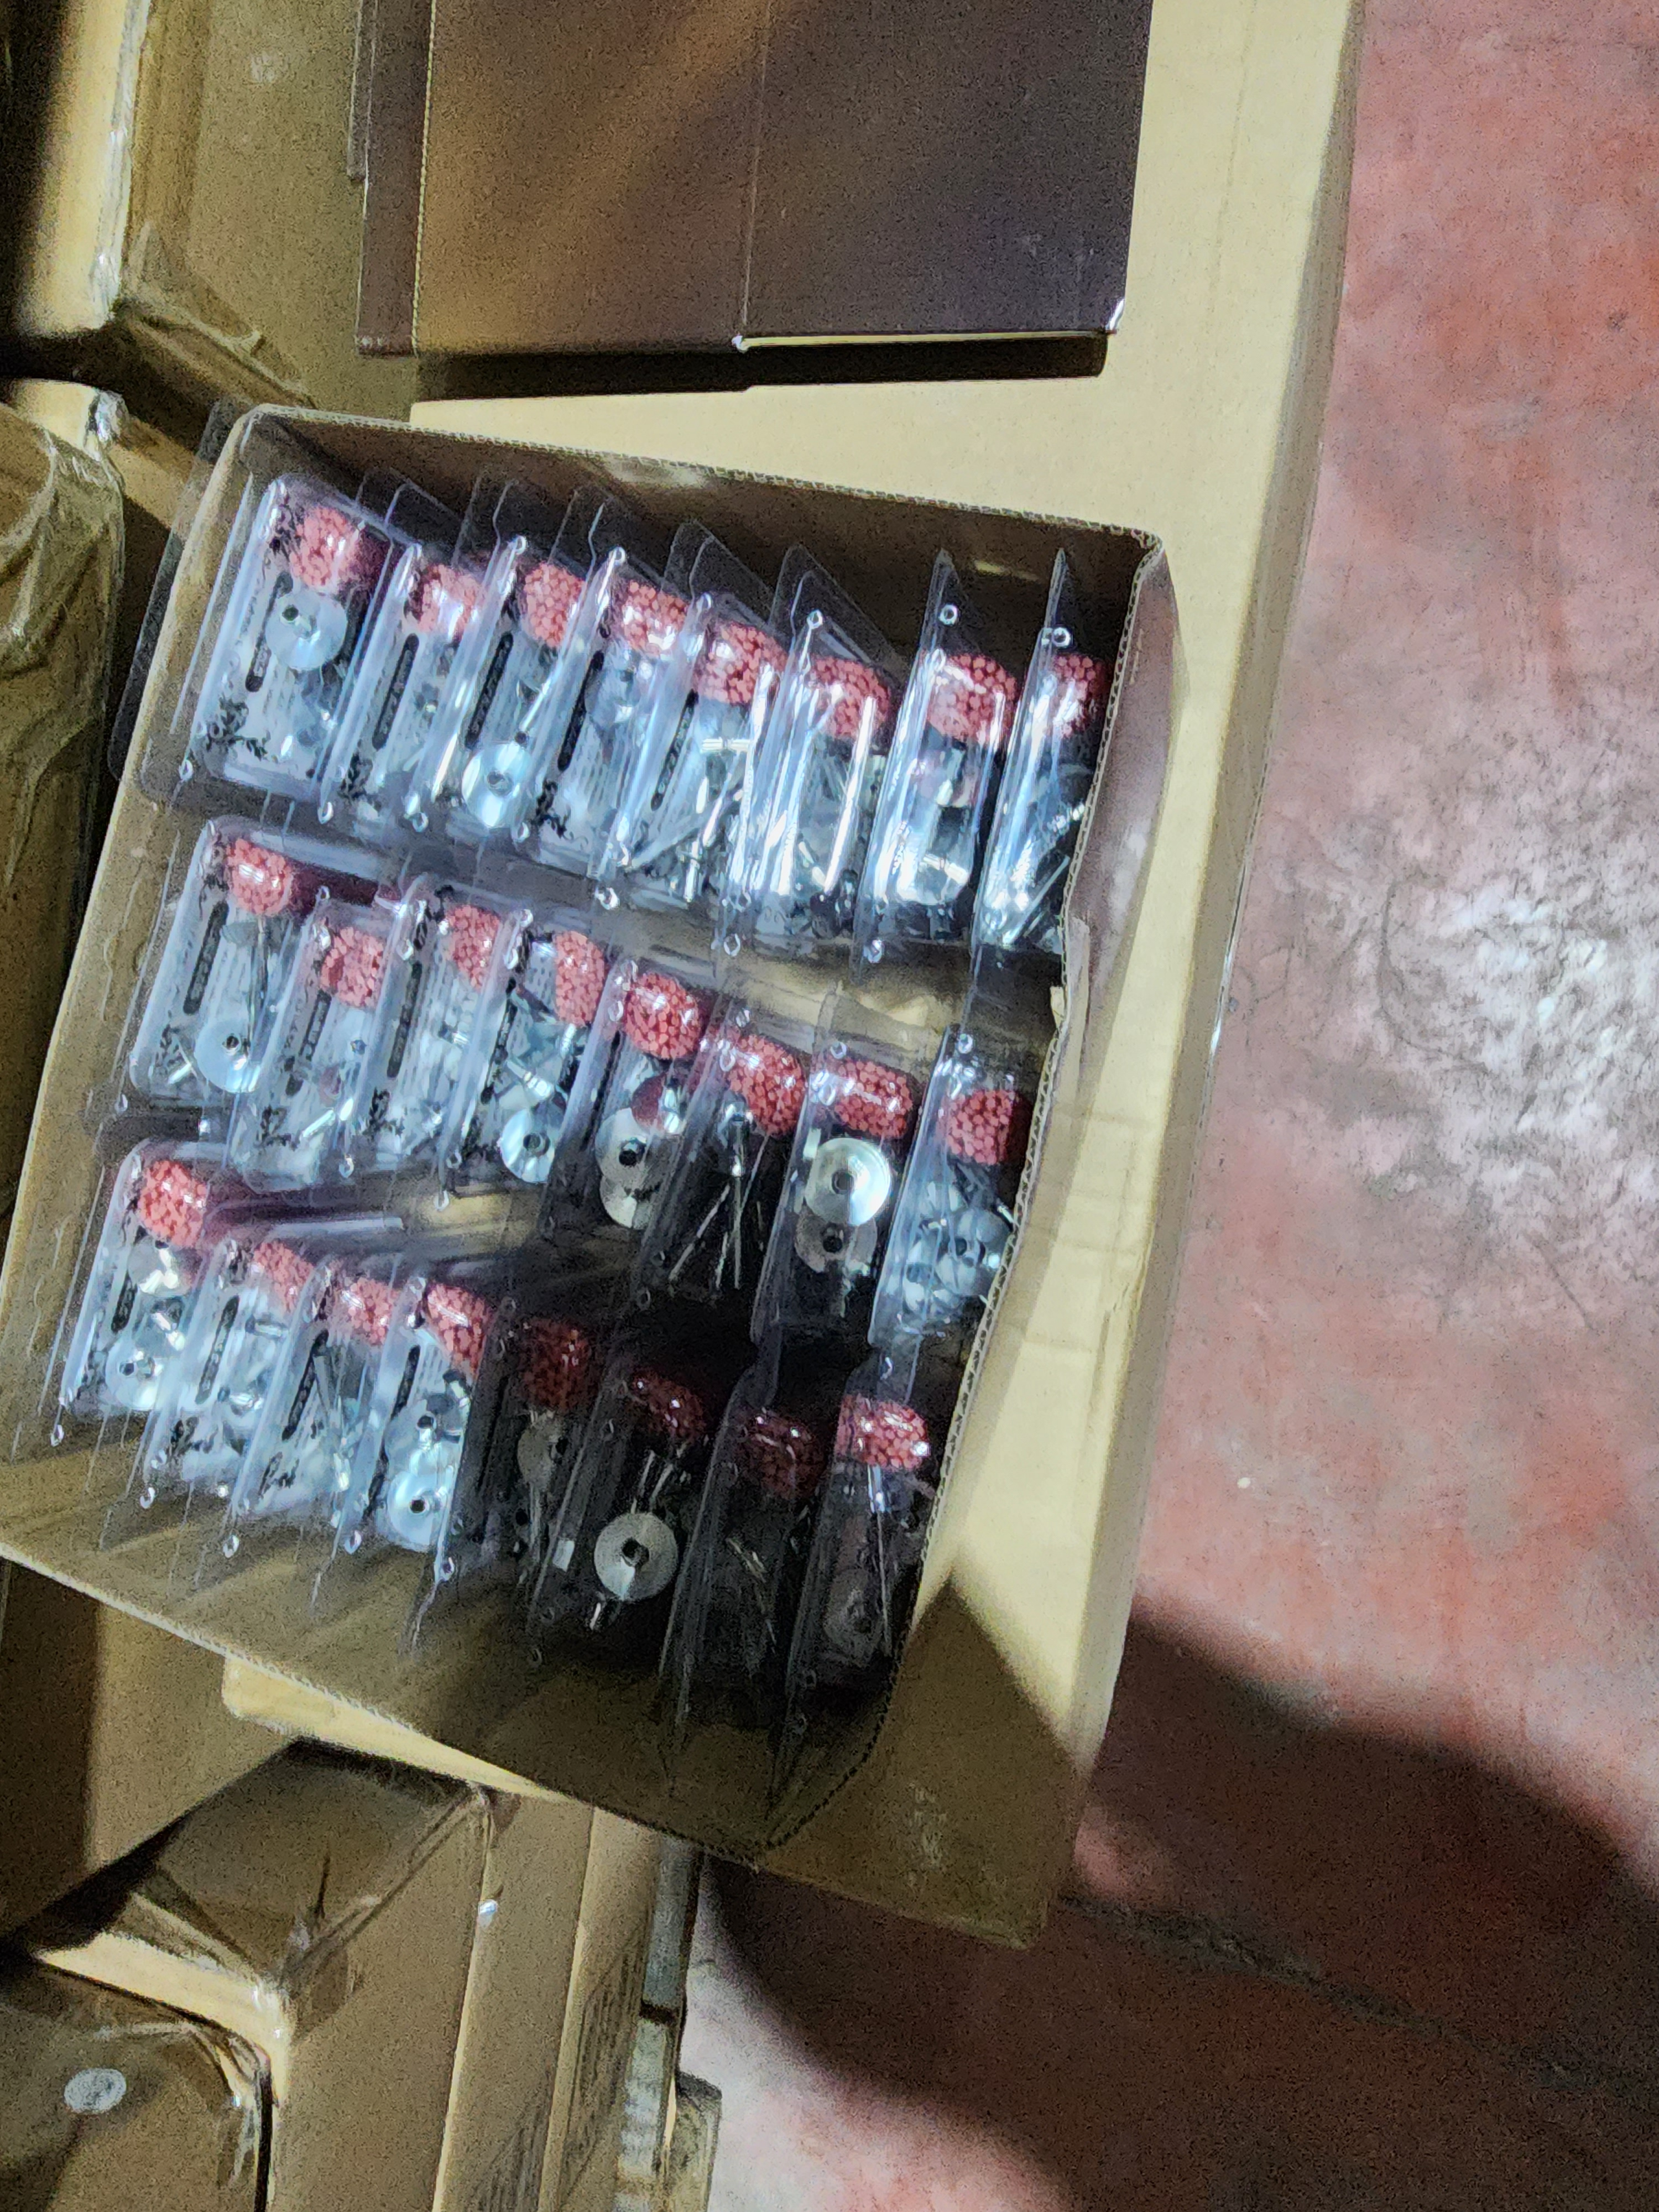box: (40, 378, 1176, 1946)
